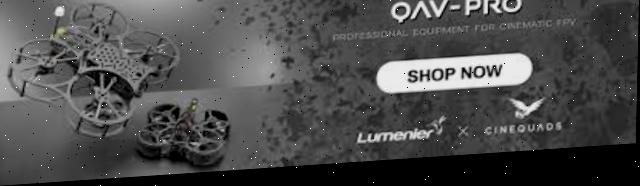drone: (4, 2, 187, 146), (135, 99, 246, 175)
